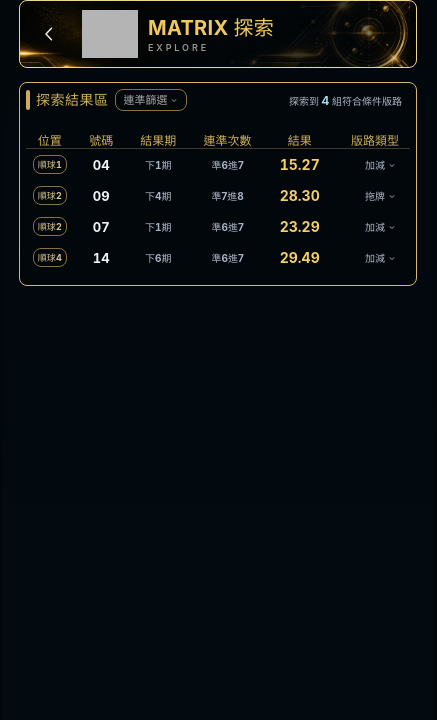
Test case: production member shell › keeps issue numbers at 9px and 700 when the shared reference rule loads later
Step 1. Click the button with aria-label "展開版路 result-04" → (375, 164), box x1=334 y1=157 x2=416 y2=172
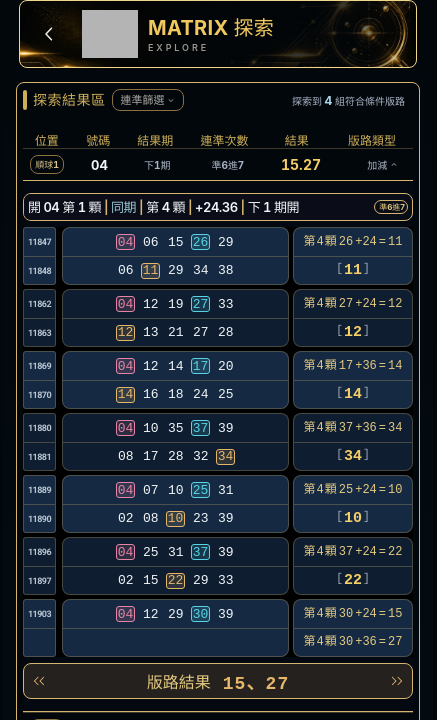
Expected: the text "11847" is shown, x1=28 y1=237 x2=51 y2=247
